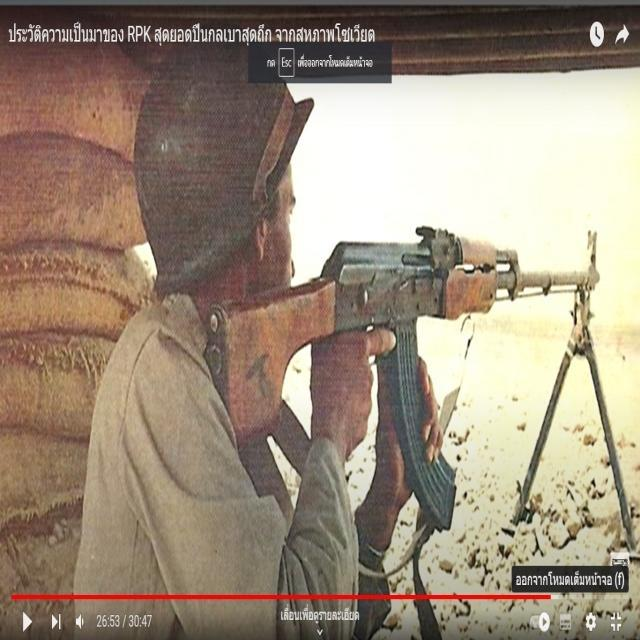ak: (205, 197, 603, 540)
